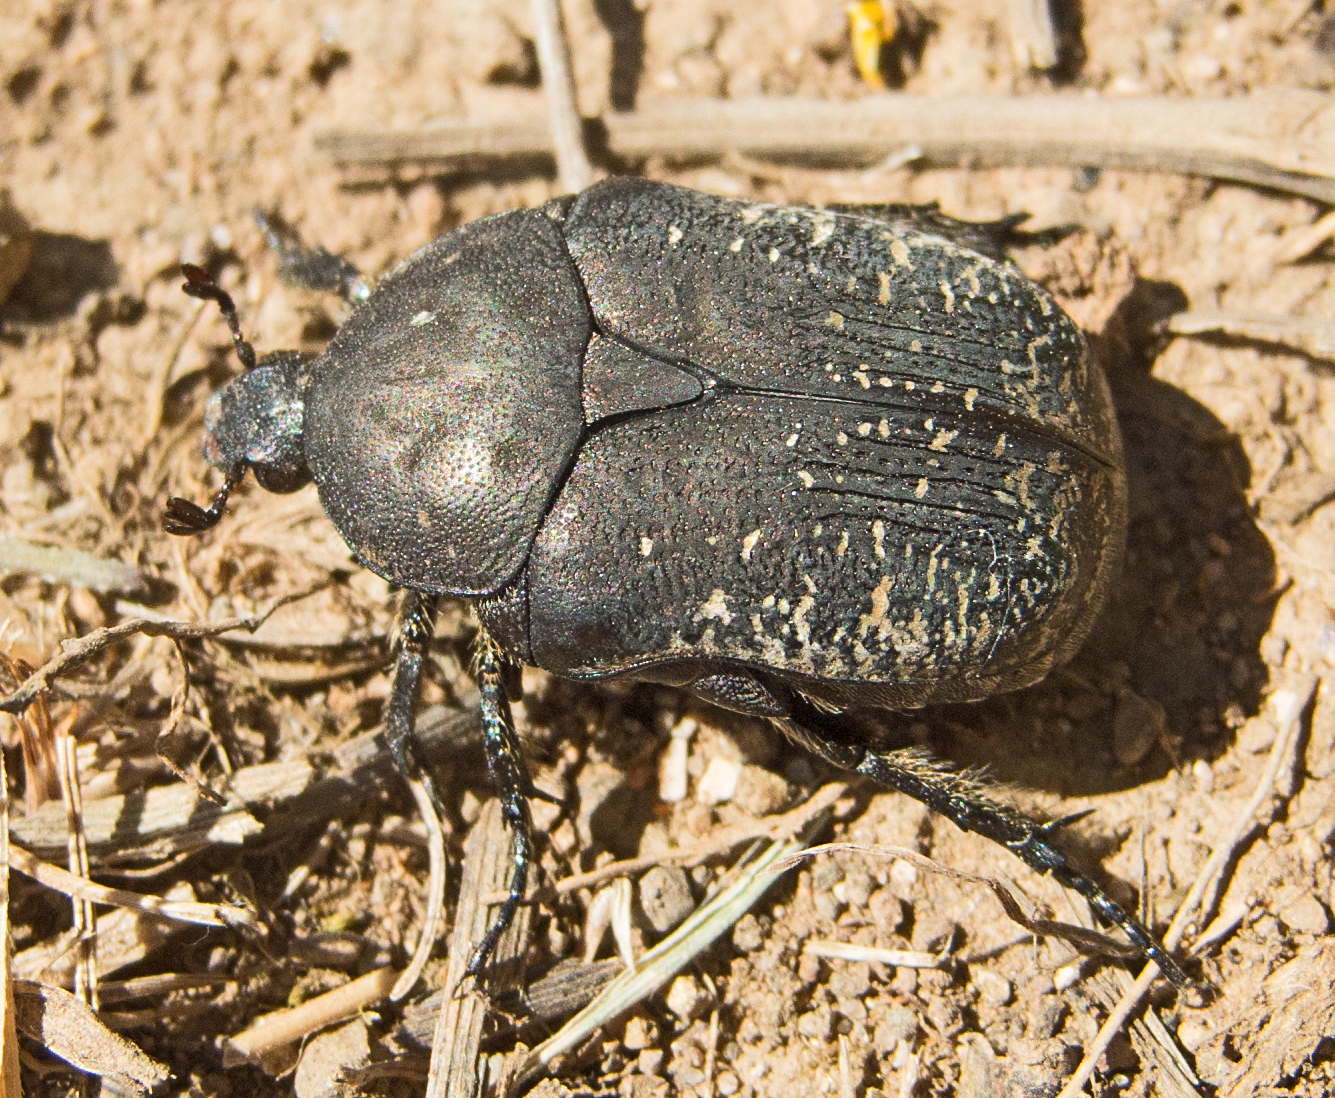Protaetia_vidua: (152, 157, 1156, 1002)
